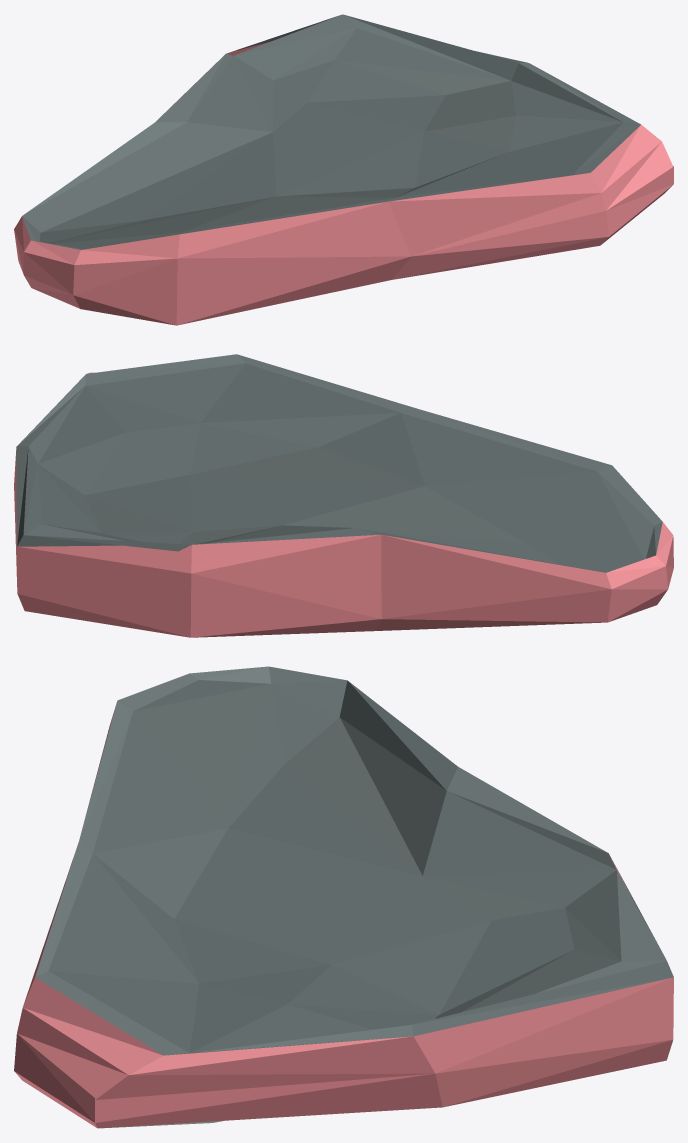
File: SFI_Meat_Raw_002.fbx
The picture shows the model from 3 angles, top to bottom: view 1: azimuth 30°, elevation 25°; view 2: azimuth 150°, elevation 25°; view 3: azimuth 270°, elevation 25°; orthographic projection. The views are drawn at different scales.
Parts seen in each view (by area): view 1: SFI_Meat_Raw_002; view 2: SFI_Meat_Raw_002; view 3: SFI_Meat_Raw_002.
Boxes of the visible parts, <box> form: SFI_Meat_Raw_002: <box>14,14,673,325</box>; SFI_Meat_Raw_002: <box>14,354,673,637</box>; SFI_Meat_Raw_002: <box>14,666,673,1128</box>.
Bounding box in the file's own units: 71.64 × 10.9 × 49.22.
